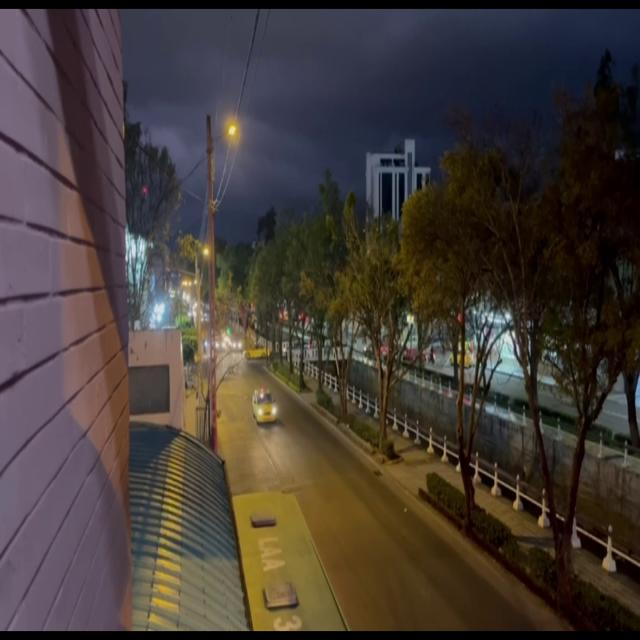BUS: (234, 493, 350, 639)
